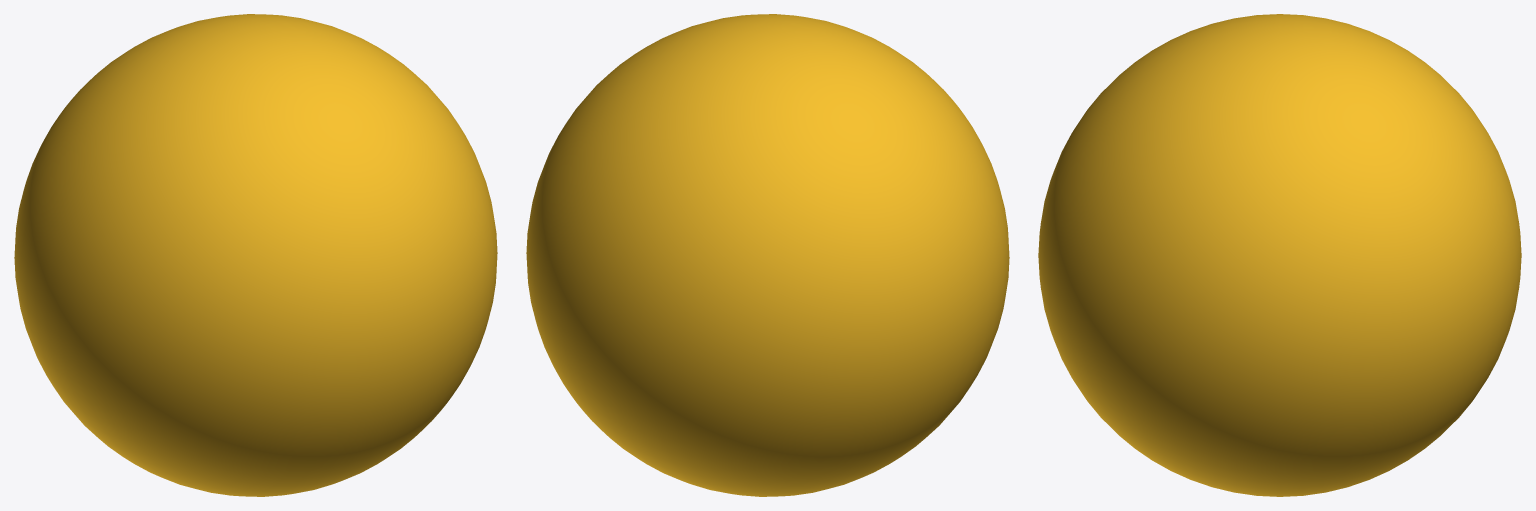
The model's file is SampleSphere.FBX.
3 renders of one model, left to right at view 1: azimuth 30°, elevation 25°; view 2: azimuth 150°, elevation 25°; view 3: azimuth 270°, elevation 25°, orthographic.
Visible parts, largest first — view 1: sphere0; view 2: sphere0; view 3: sphere0.
Part boxes in pixels (x1,y1,x2,y2): sphere0: (14, 14, 497, 496); sphere0: (526, 14, 1009, 496); sphere0: (1038, 14, 1521, 496).
Bounding box in the file's own units: 97.99 × 97.99 × 97.99.
